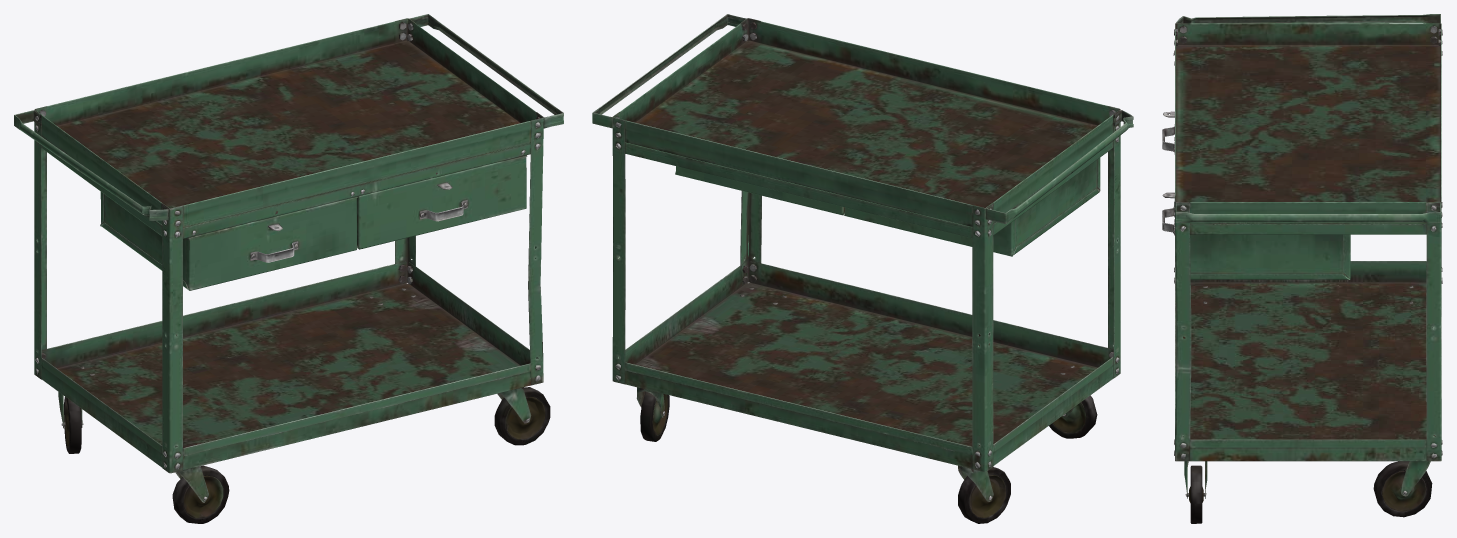
File: tool_cart.slim.glb
3 renders of one model, left to right at view 1: azimuth 30°, elevation 25°; view 2: azimuth 150°, elevation 25°; view 3: azimuth 270°, elevation 25°, orthographic. The views are drawn at different scales.
Size of the model in its own units: 1.27 by 0.963 by 0.7511.
Materials: 1 (1 with a texture image).
